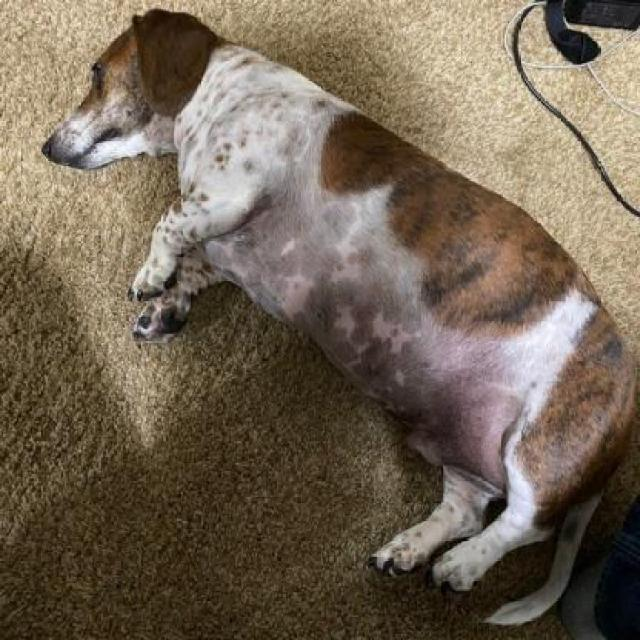Dog: (41, 9, 638, 638)
